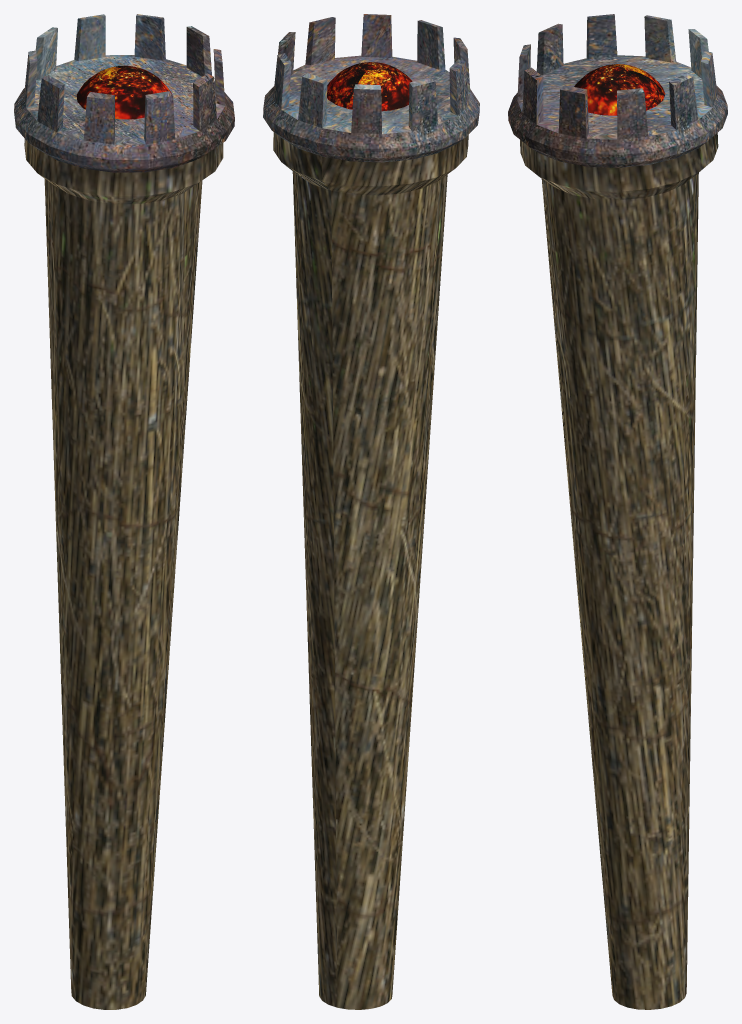
The model's file is torch.fbx.
The picture shows the model from 3 angles, left to right: view 1: azimuth 30°, elevation 25°; view 2: azimuth 150°, elevation 25°; view 3: azimuth 270°, elevation 25°; orthographic projection.
Parts seen in each view (by area): view 1: torch1; view 2: torch1; view 3: torch1.
Boxes of the visible parts, bbox=[...] form: torch1: bbox=[14, 14, 234, 1009]; torch1: bbox=[263, 14, 479, 1009]; torch1: bbox=[508, 14, 727, 1009].
Size of the model in its own units: 0.9658 by 4.58 by 0.9666.
